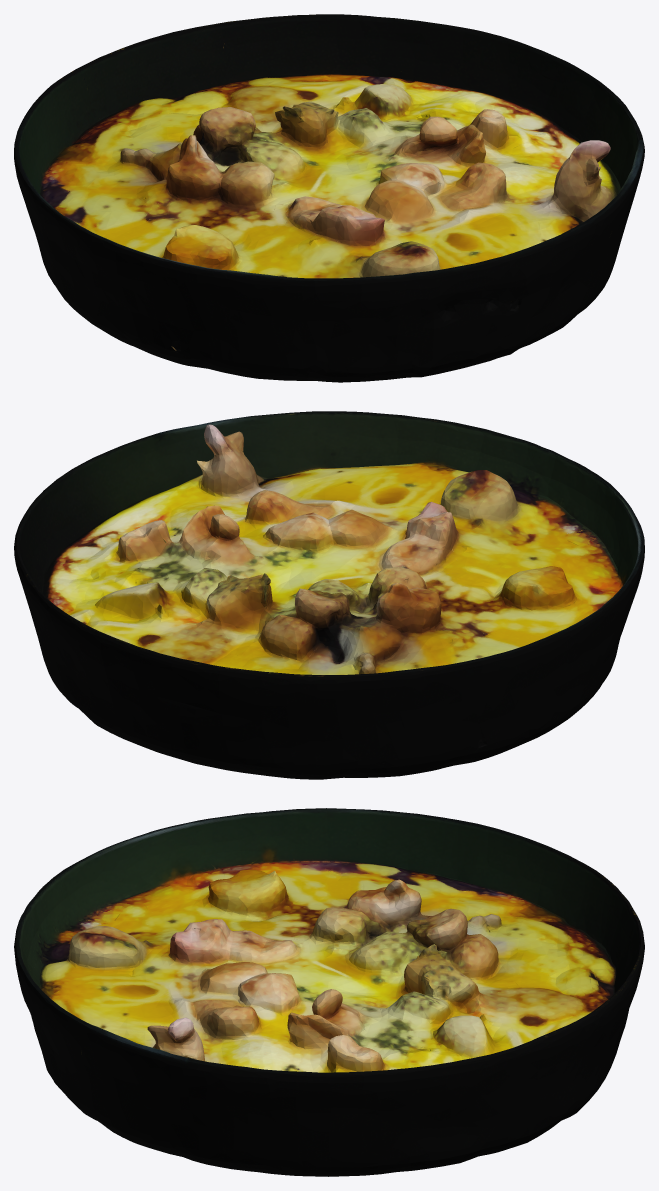
Rendered from pizza.glb.
3 renders of one model, top to bottom at view 1: azimuth 30°, elevation 25°; view 2: azimuth 150°, elevation 25°; view 3: azimuth 270°, elevation 25°, orthographic.
Visible parts, largest first — view 1: world; view 2: world; view 3: world.
Part boxes in pixels (x1,y1,x2,y2): world: (14, 14, 644, 382); world: (14, 411, 644, 779); world: (14, 808, 644, 1176).
Size of the model in its own units: 0.9989 by 0.2439 by 0.9989.
Materials: 1 (1 with a texture image).
